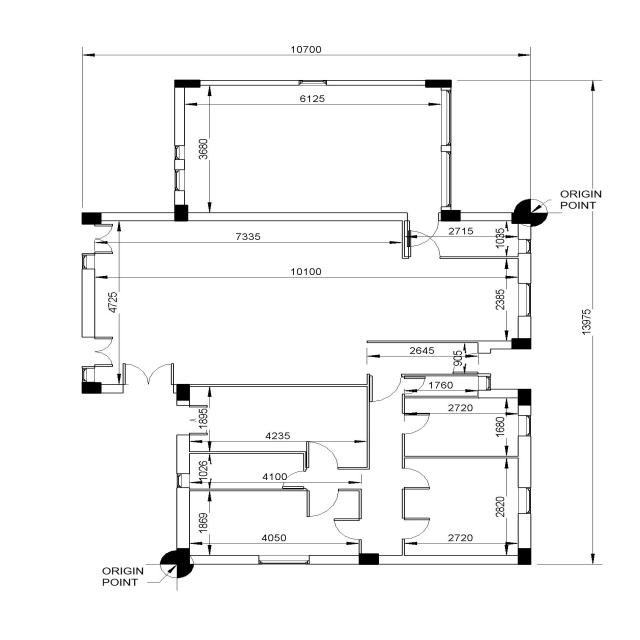Column: (82, 212, 102, 225), (174, 204, 188, 222), (82, 382, 102, 394), (359, 553, 379, 565), (512, 338, 532, 350), (511, 212, 531, 224), (176, 384, 190, 401), (176, 548, 190, 565), (518, 388, 531, 406), (518, 548, 531, 565), (440, 210, 460, 221), (174, 80, 201, 88), (425, 80, 452, 88)
Door: (408, 212, 440, 247), (369, 374, 404, 402), (408, 230, 440, 259), (306, 441, 338, 470), (306, 489, 339, 517), (334, 519, 362, 540), (402, 518, 430, 539), (402, 468, 430, 489), (402, 413, 430, 434), (452, 352, 478, 374), (282, 471, 306, 489), (402, 376, 426, 394)
Double-Door: (123, 364, 174, 394), (176, 406, 208, 436), (82, 337, 113, 367), (82, 225, 113, 253)
Window: (441, 151, 451, 210), (441, 88, 451, 146), (258, 555, 310, 565), (518, 283, 531, 316), (518, 487, 531, 514), (518, 415, 531, 436), (174, 170, 185, 191), (82, 253, 95, 270), (176, 473, 190, 488), (518, 239, 531, 254), (299, 80, 327, 86), (174, 145, 185, 160), (486, 376, 491, 390)
